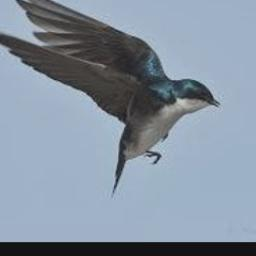Swallow: (0, 0, 218, 196)
